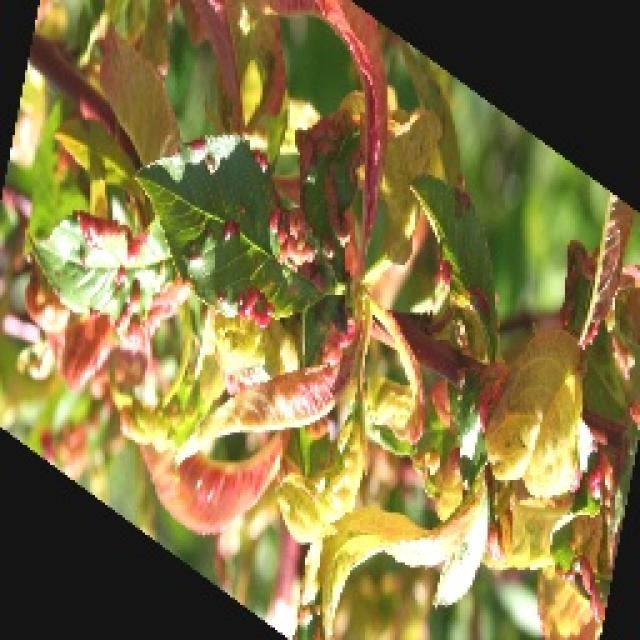Chlorosis: (0, 0, 638, 638)
peach_leaf_curl: (220, 66, 446, 429)
